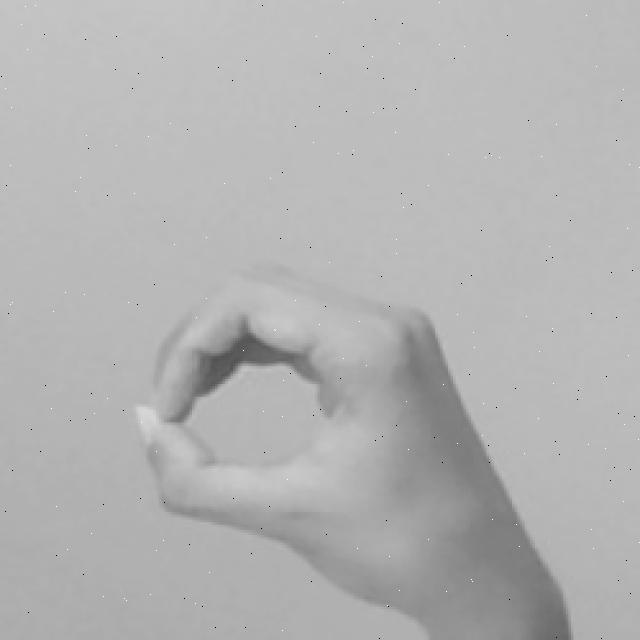O: (128, 256, 579, 640)
